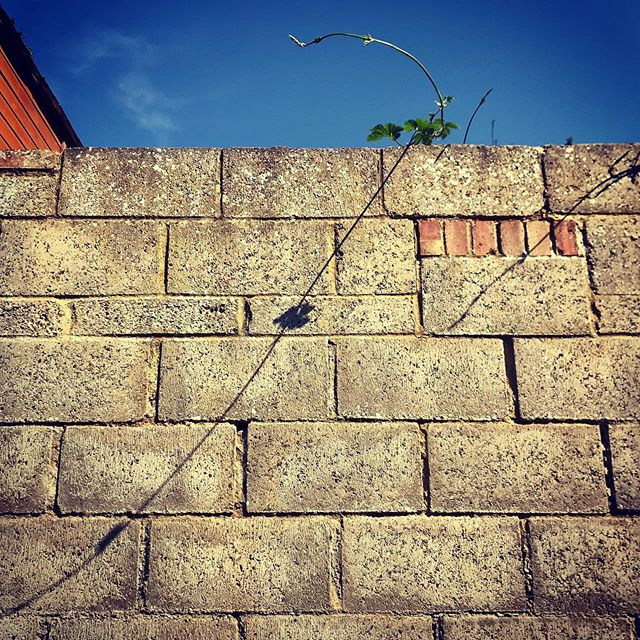sky: (72, 1, 640, 144)
wall: (1, 145, 640, 640)
